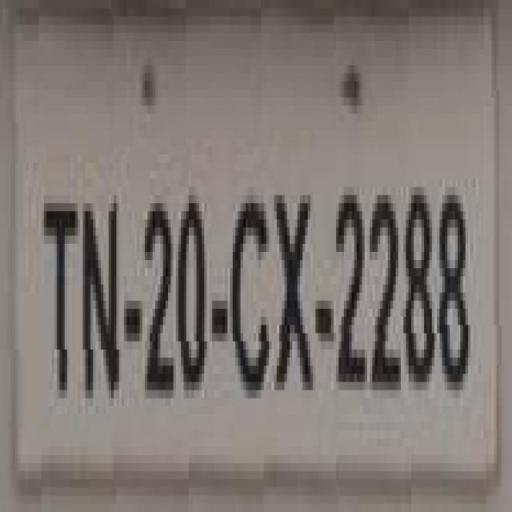number plate: (5, 32, 512, 472)
